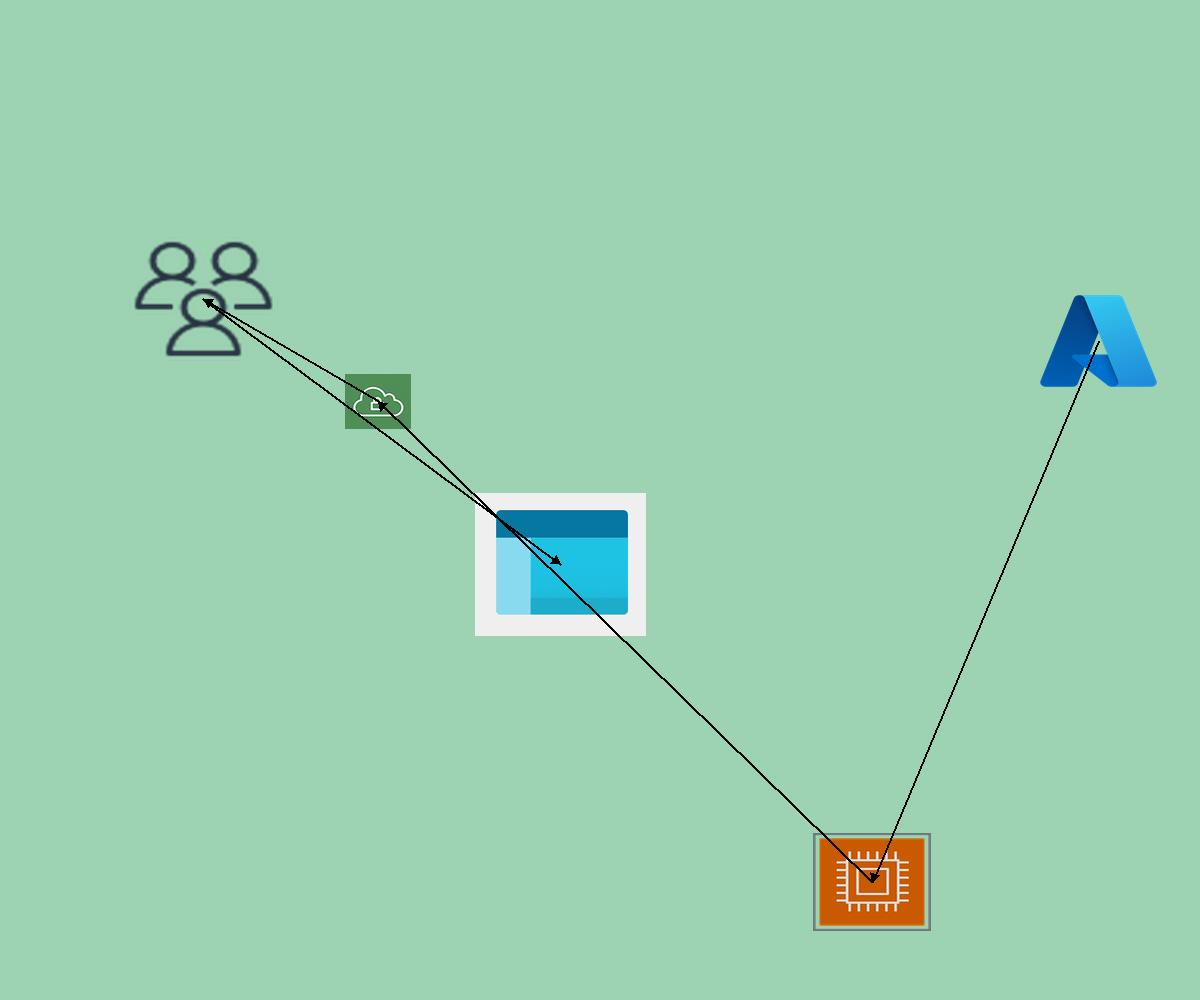AWS-Category_Compute: (813, 833, 931, 931)
AWS-Private_vpc: (345, 374, 411, 429)
AWS-Res_Users: (129, 237, 278, 361)
Azure_management-portal: (475, 493, 646, 636)
Azure_services: (1035, 288, 1162, 394)
